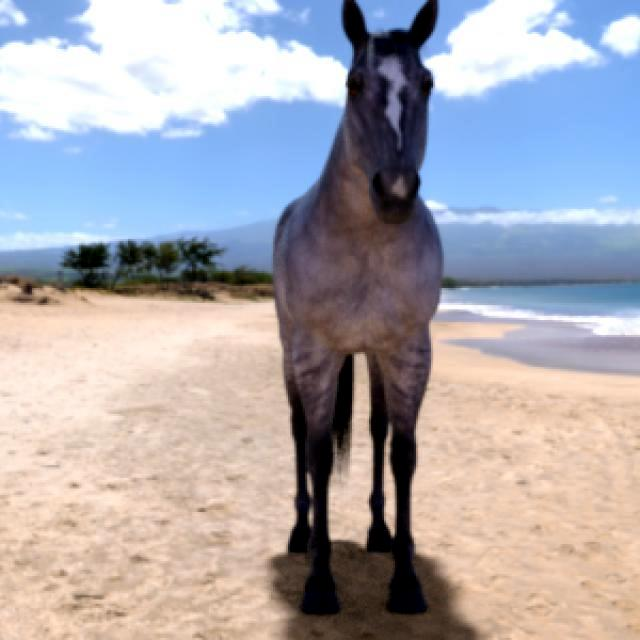horse: (274, 0, 442, 613)
